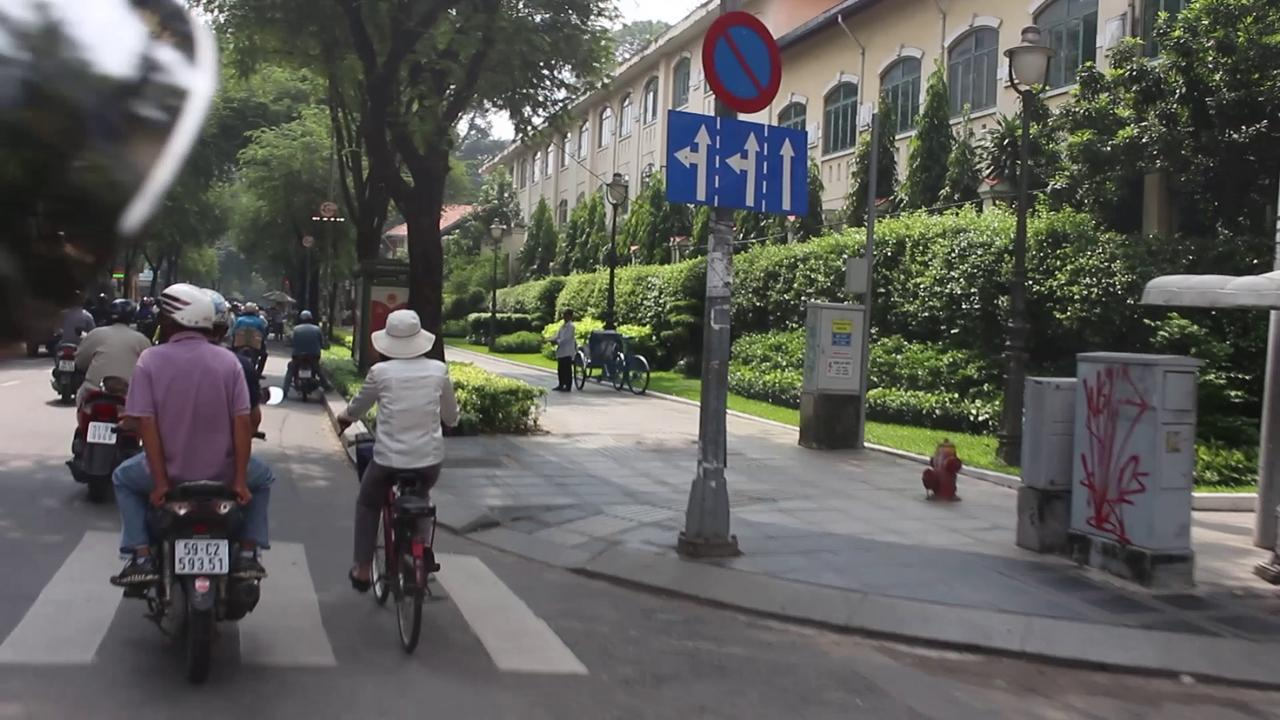P.102: (700, 8, 783, 112)
P.124c: (770, 126, 806, 216)
